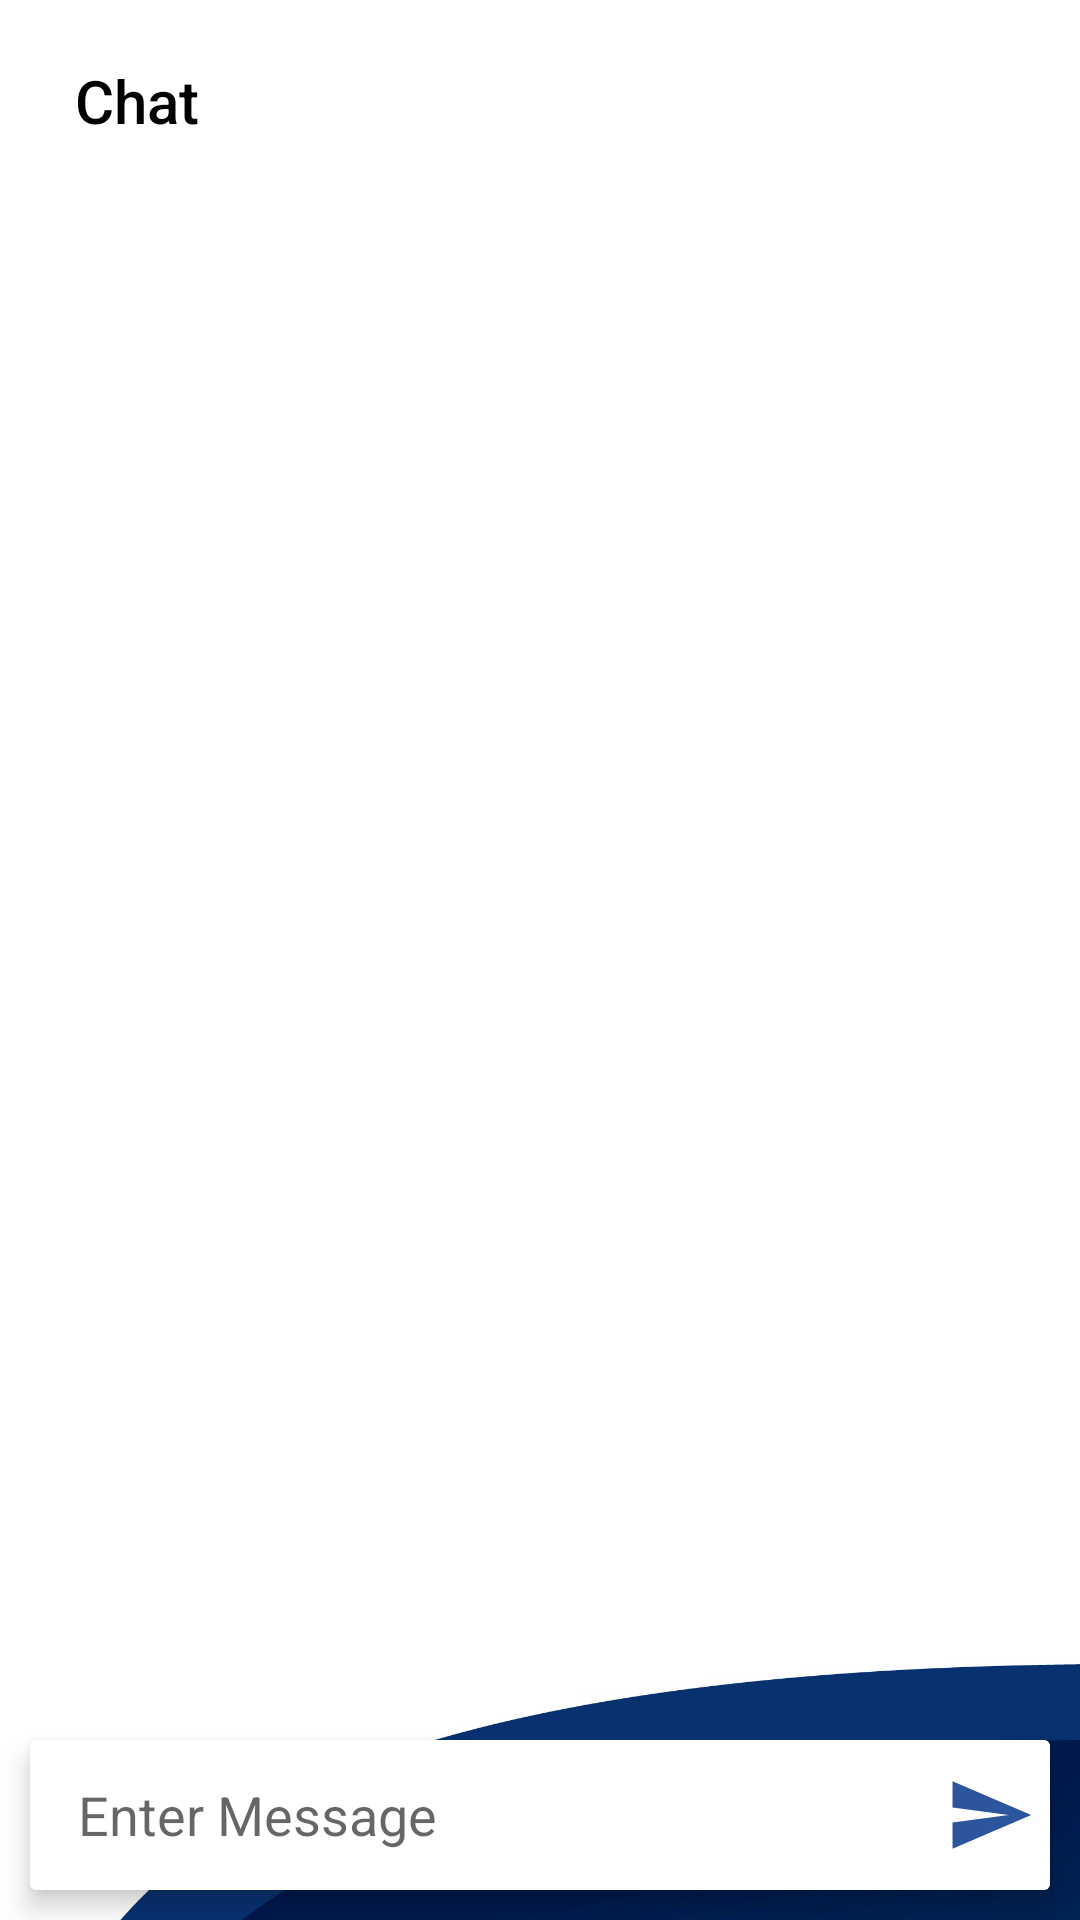

Named icons in this screenshot (1080x1920) and their centers, [x,y]:
send: [991,1815]
